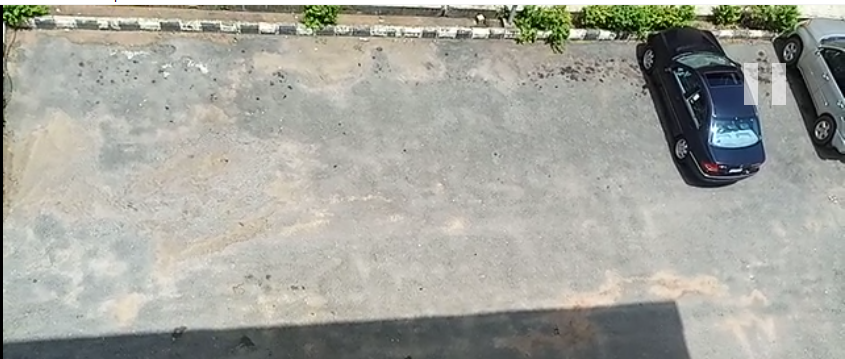one: (2, 5, 138, 212)
three: (402, 9, 523, 220)
two: (202, 9, 339, 219)
